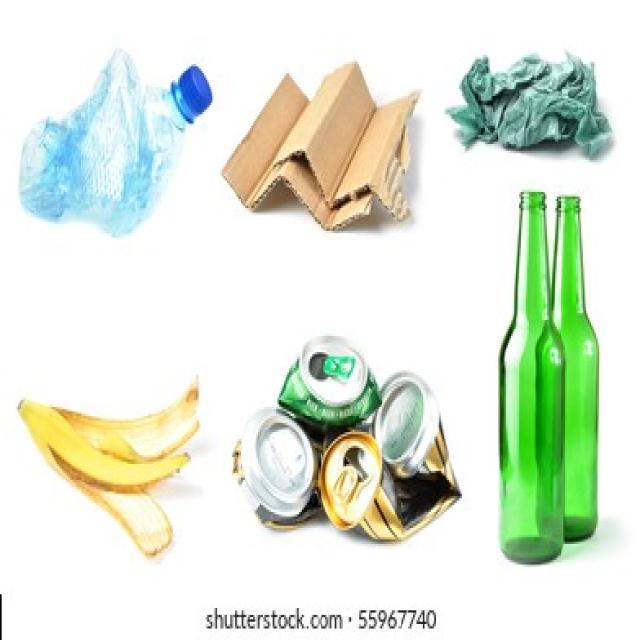cardboard: (246, 64, 396, 233)
glass: (498, 194, 601, 565)
metal: (245, 350, 446, 539)
paper: (475, 50, 598, 160)
plastic: (38, 64, 173, 233)
